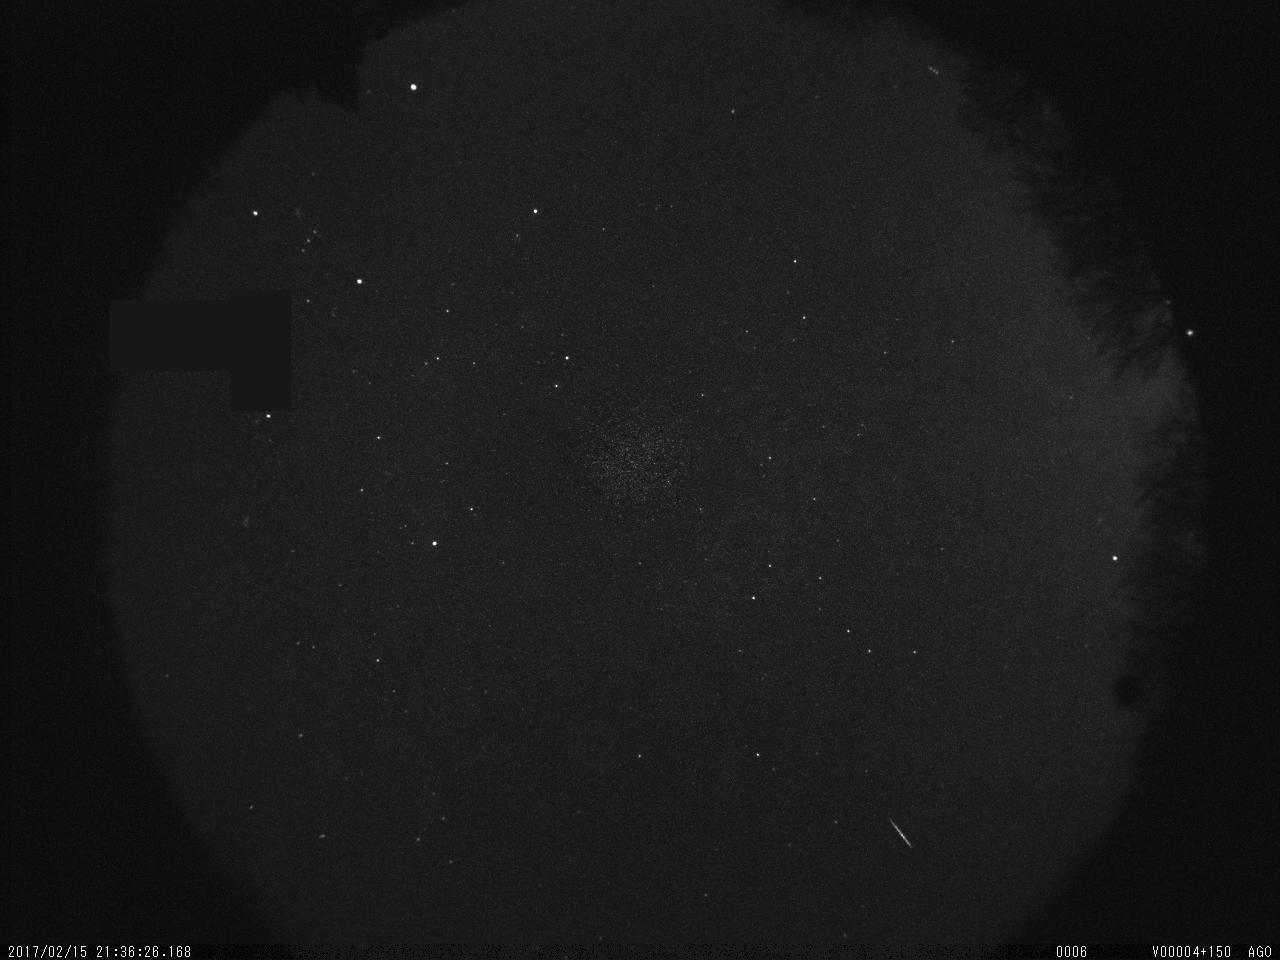meteor: (882, 806, 921, 860)
